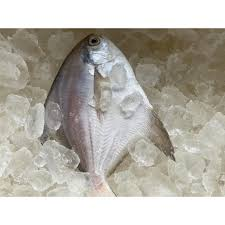Ikan Bawal: (31, 32, 176, 197)
